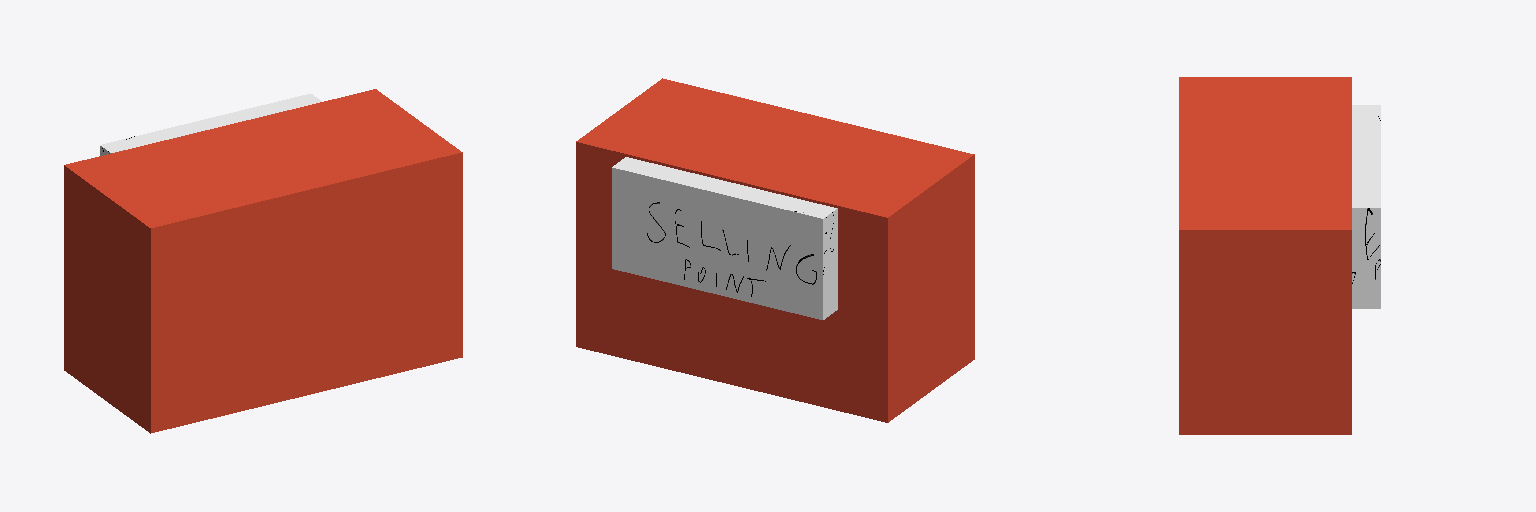
3 renders of one model, left to right at view 1: azimuth 30°, elevation 25°; view 2: azimuth 150°, elevation 25°; view 3: azimuth 270°, elevation 25°, orthographic.
Visible parts, largest first — view 1: Cube.001, Cube; view 2: Cube.001, Cube; view 3: Cube.001, Cube.
Boxes of the visible parts, x1,y1,x2,y2 form: Cube.001: [64, 89, 462, 433]; Cube: [100, 94, 321, 155]; Cube.001: [576, 78, 974, 422]; Cube: [612, 157, 837, 319]; Cube.001: [1179, 77, 1351, 434]; Cube: [1352, 105, 1380, 308].
Size of the model in its own units: 13.45 by 8.45 by 7.55.
2 materials, 2 textured.